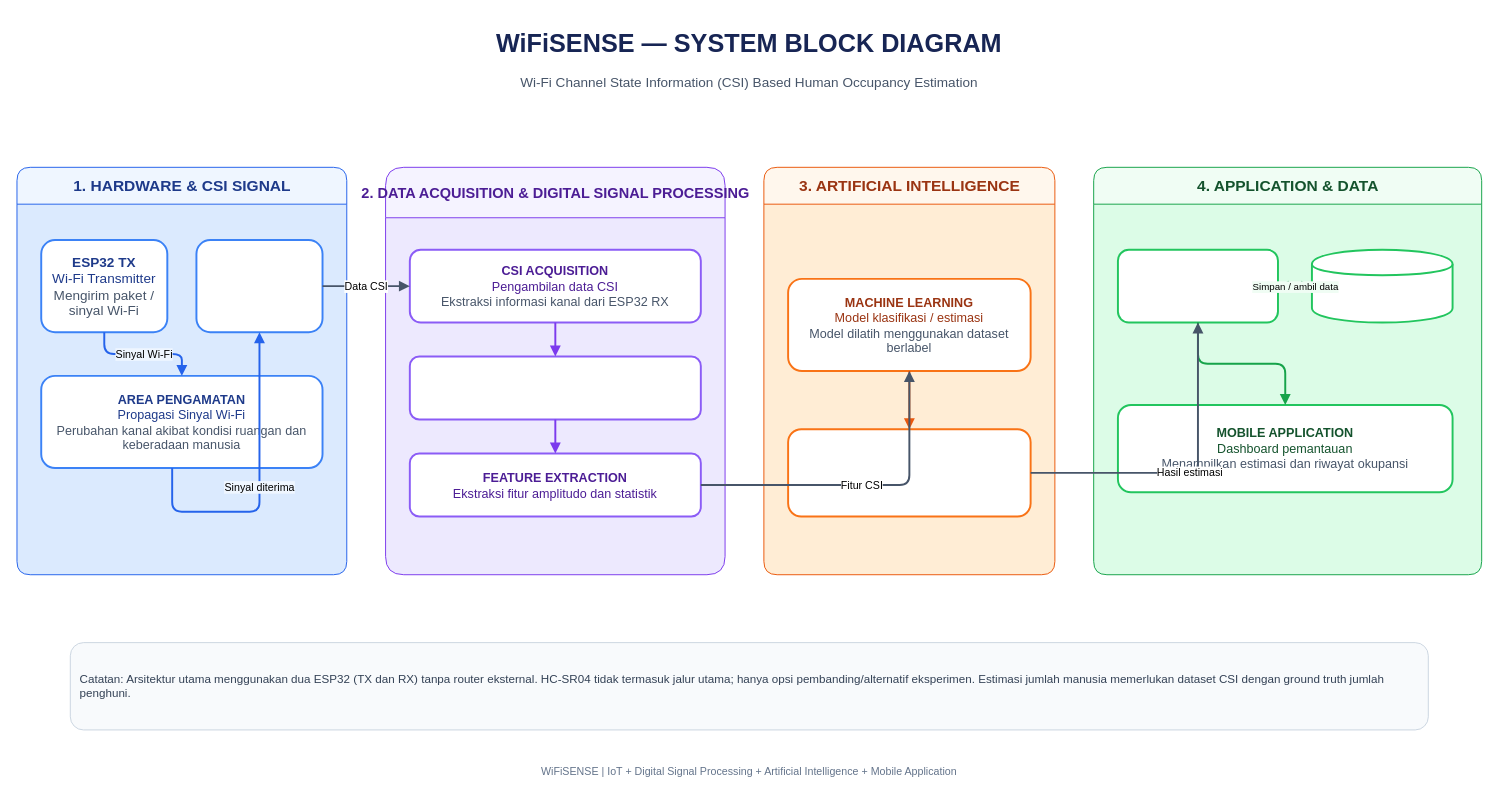
Image size: 1499x799. Some labels were removed from this diagram. The centre of each missing label's shape, as x and y in pixels:
"BACKEND API Menerima dan menyediakan hasil estimasi" belongs at point (1197, 285).
"DATABASE Data pengukuran dan riwayat" belongs at point (1381, 285).
"ESP32 RX CSI Receiver Menerima paket dan mengambil data CSI" belongs at point (259, 286).
"OCCUPANCY ESTIMATION Estimasi jumlah manusia Output: jumlah / kelas okupansi" belongs at point (909, 472).
"PREPROCESSING Validasi, parsing, dan filtering noise" belongs at point (554, 387).
